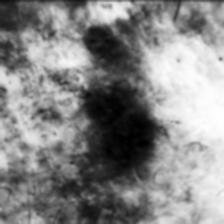Potentially Malignant Skin Tumors: (101, 114, 148, 160)
